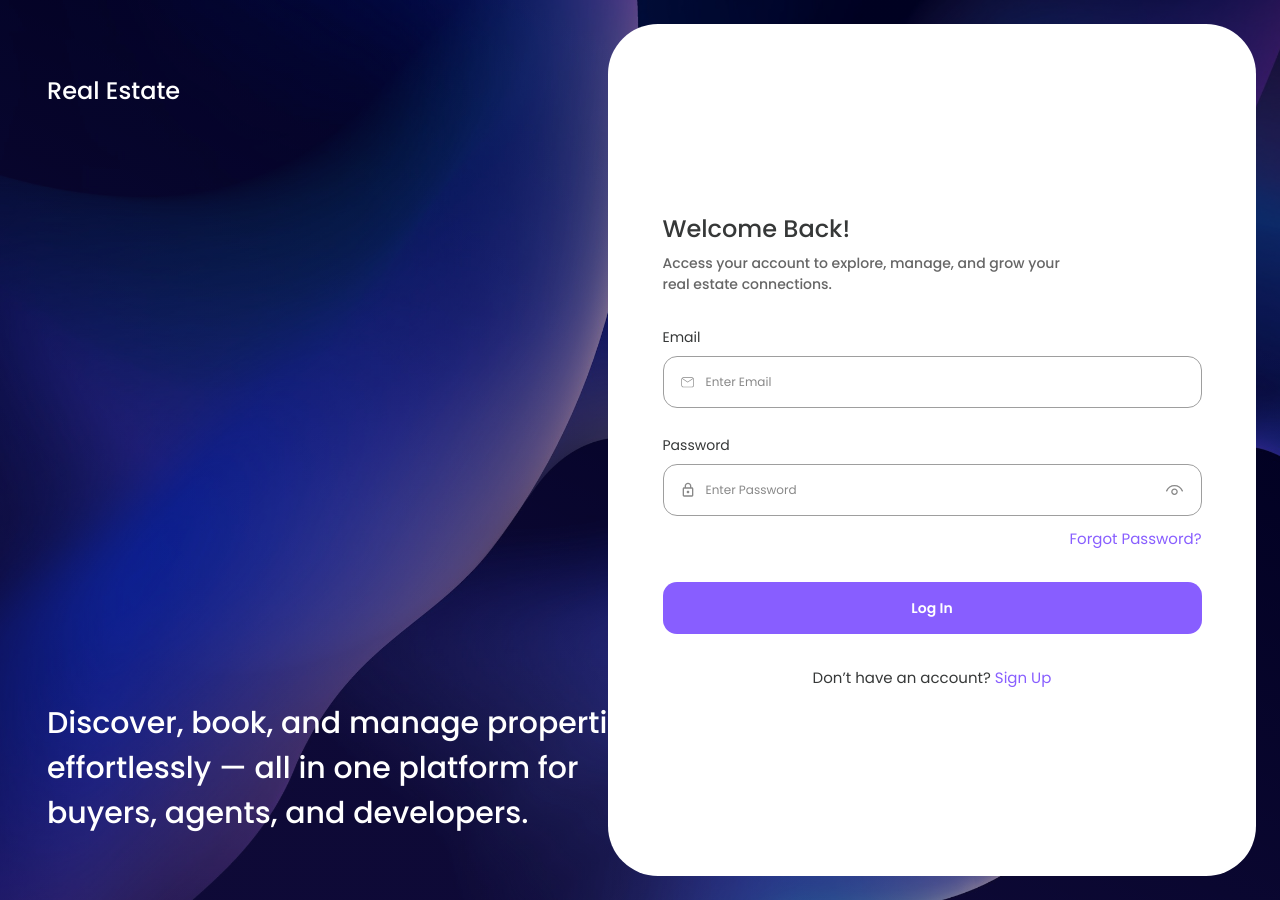
Test: LoginPage › shows 401 invalidCredentials as the form alert, exactly as returned, and stays on Log in
Type "  Sara@Example.TEST " into the field labelled "Email".
click(945, 382); type("  Sara@Example.TEST ")  # box [706,357,1184,407]
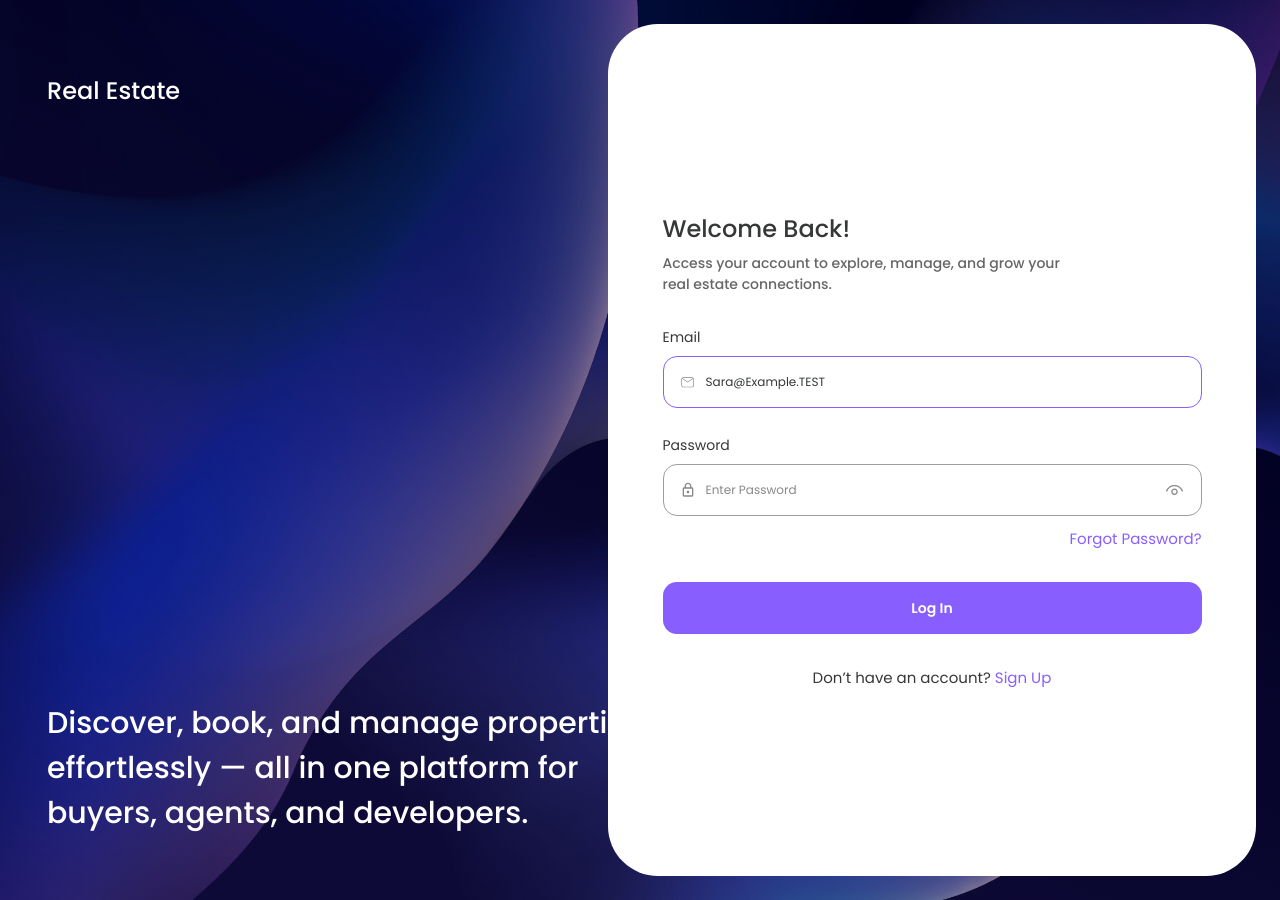
Type "secret123" into the password field labelled "Password".
click(930, 490); type("secret123")  # box [706,465,1154,515]
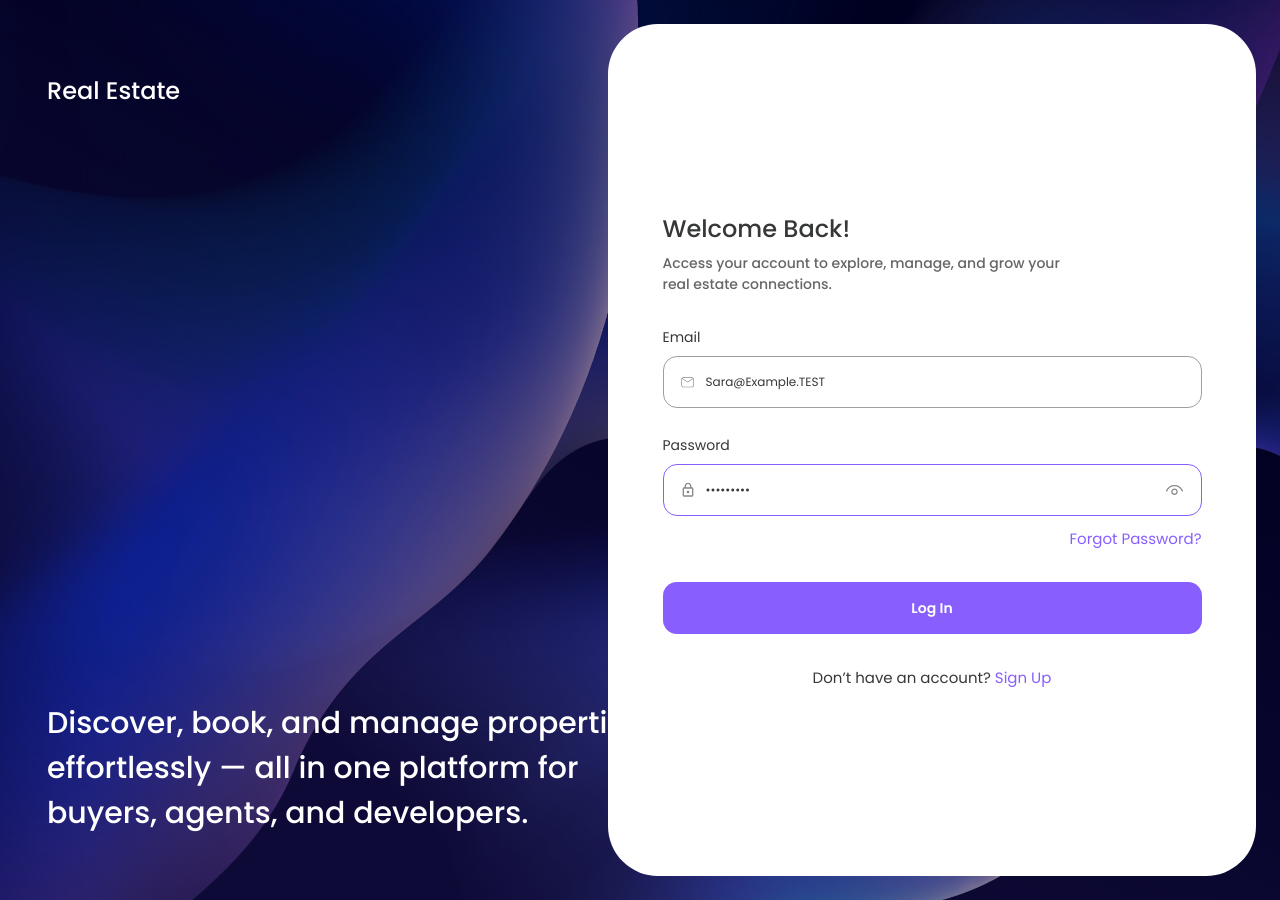
Click the button "Log In".
click(932, 608)  # box [662,582,1202,634]
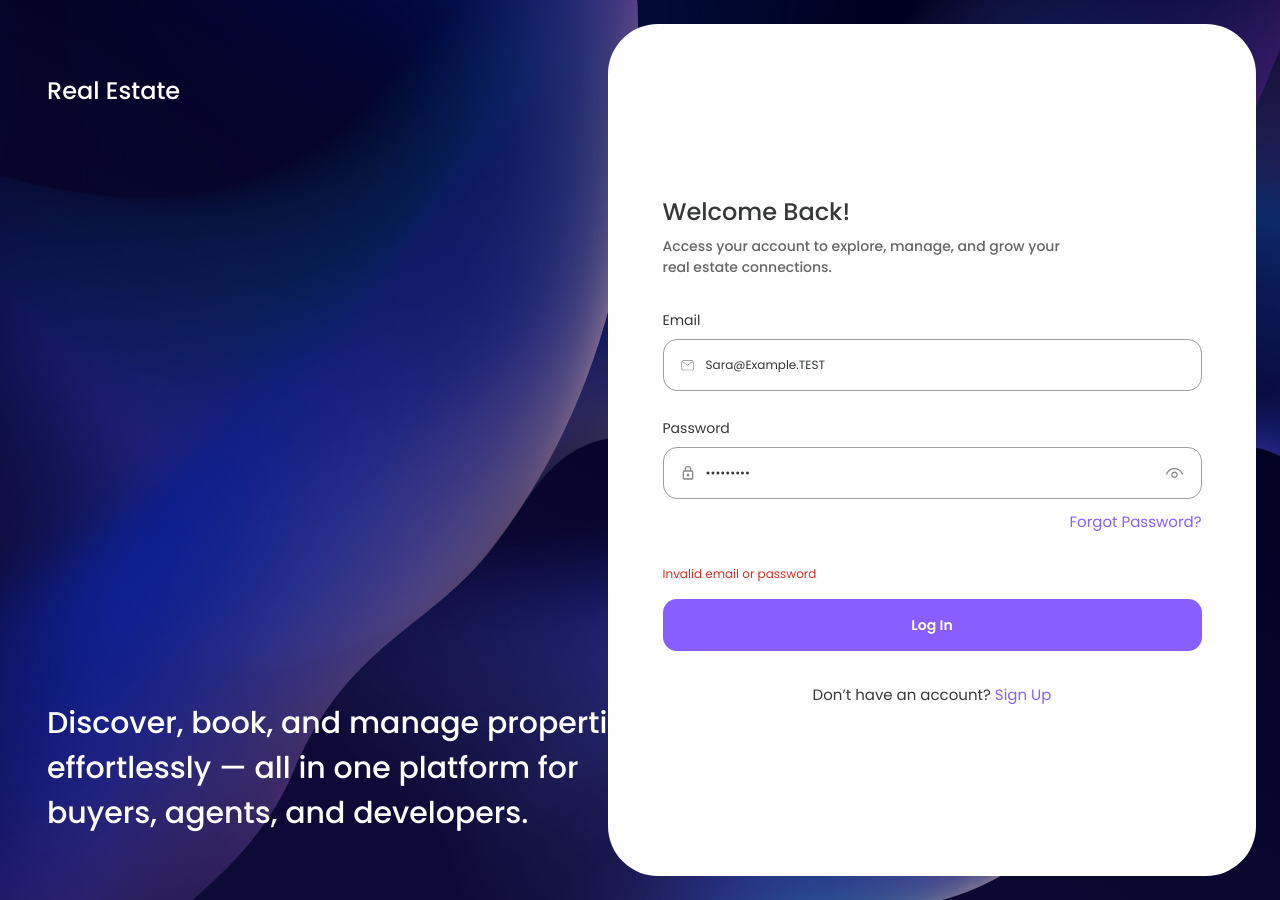
Result: the message reads "Invalid email or password" at [662,565,816,582]
